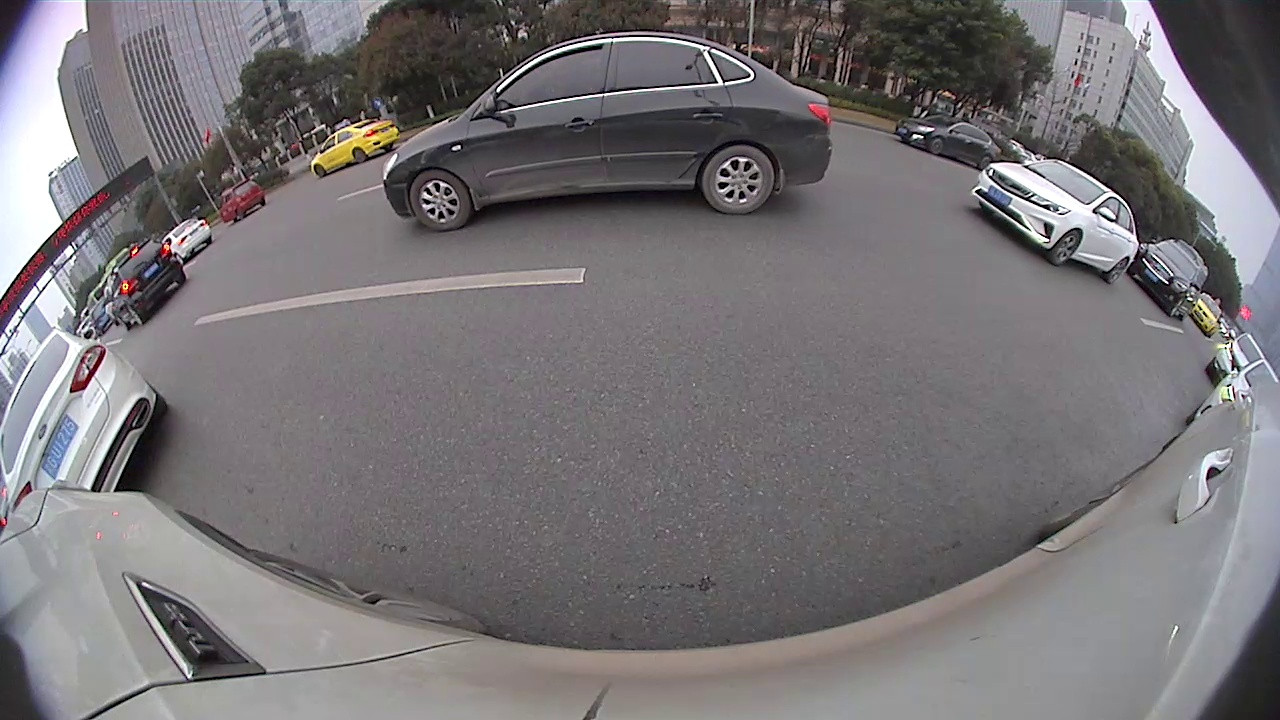car: (380, 30, 835, 238), (2, 322, 174, 519), (967, 152, 1143, 283), (99, 231, 192, 328), (308, 113, 403, 184), (894, 116, 1001, 174), (1136, 236, 1209, 321)
front: (407, 168, 473, 230), (1048, 231, 1082, 268), (929, 138, 943, 154), (316, 166, 326, 179)
rear: (701, 143, 776, 213), (1107, 258, 1130, 287), (355, 150, 368, 163)
